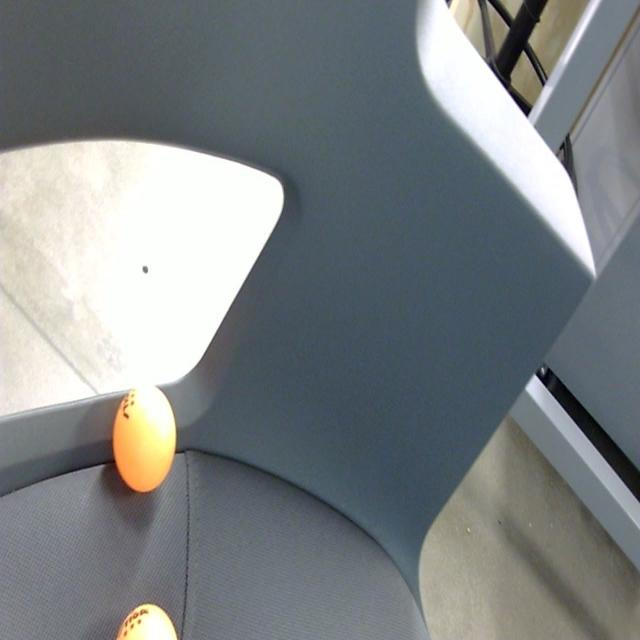ball: (114, 382, 178, 497), (110, 599, 180, 640)
